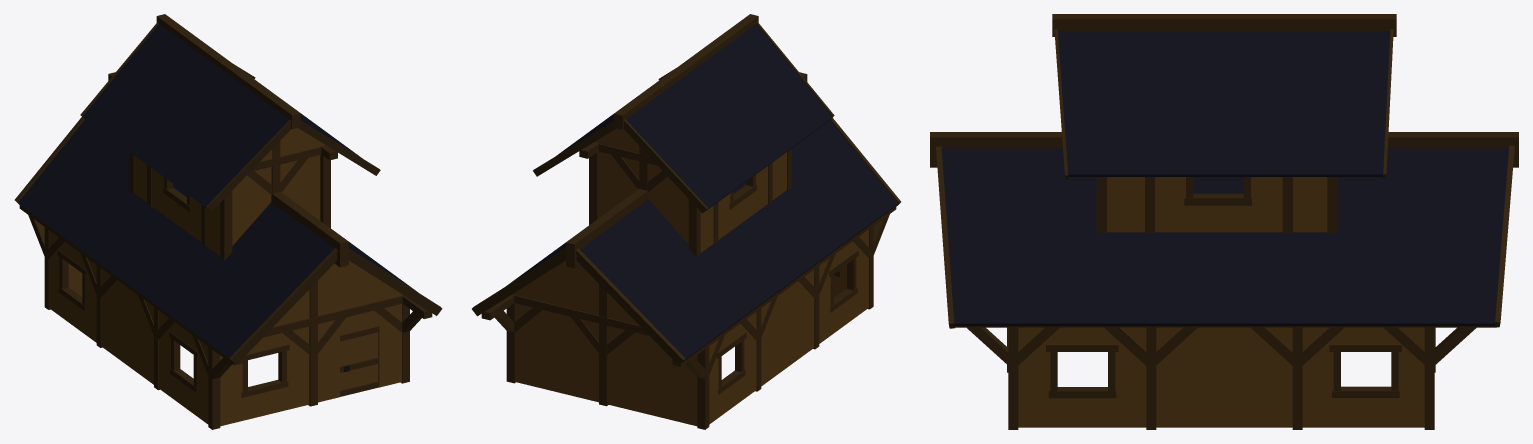
The model's file is Fancy_House.fbx.
3 views of the same model, side by side, from view 1: azimuth 30°, elevation 25°; view 2: azimuth 150°, elevation 25°; view 3: azimuth 270°, elevation 25° (orthographic). The views are drawn at different scales.
Parts seen in each view (by area): view 1: Cube.003, Cube.068; view 2: Cube.003; view 3: Cube.003.
Boxes of the visible parts, left/top/right/bottom form: Cube.003: left=14, top=14, right=442, bottom=429; Cube.068: left=340, top=326, right=378, bottom=396; Cube.003: left=472, top=14, right=900, bottom=429; Cube.003: left=930, top=14, right=1518, bottom=429.
Bounding box in the file's own units: 733 × 924 × 1394.
1 material, 1 textured.
